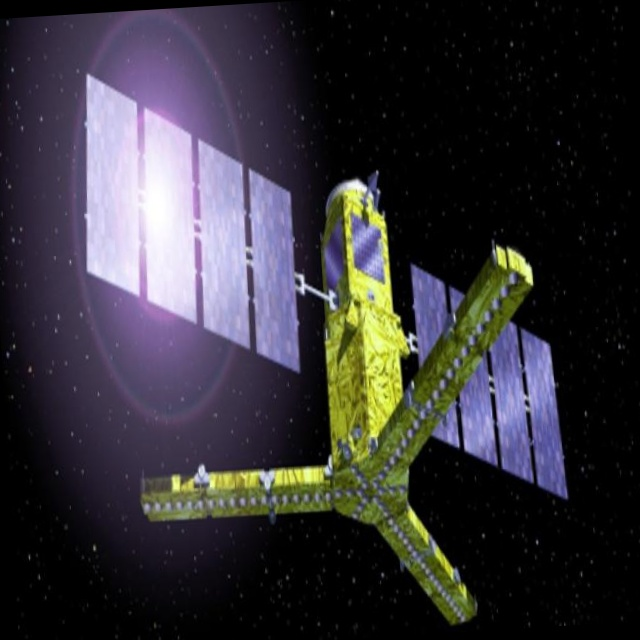satellite: (67, 38, 583, 640)
